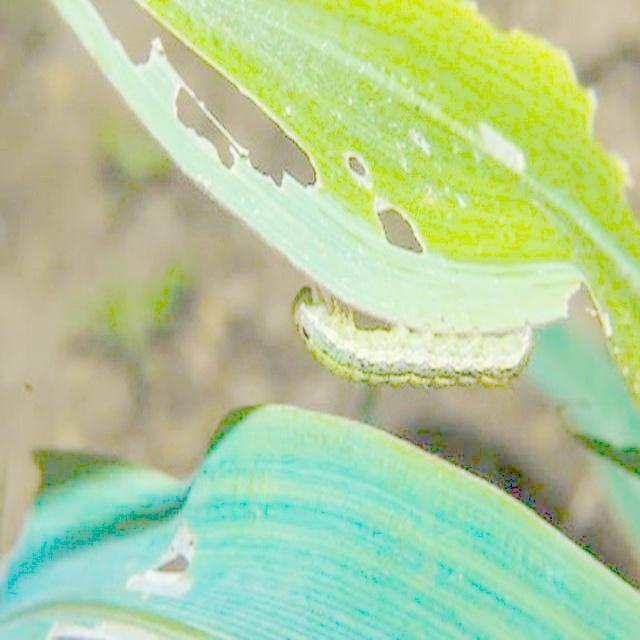Plaga: (283, 276, 535, 390)
